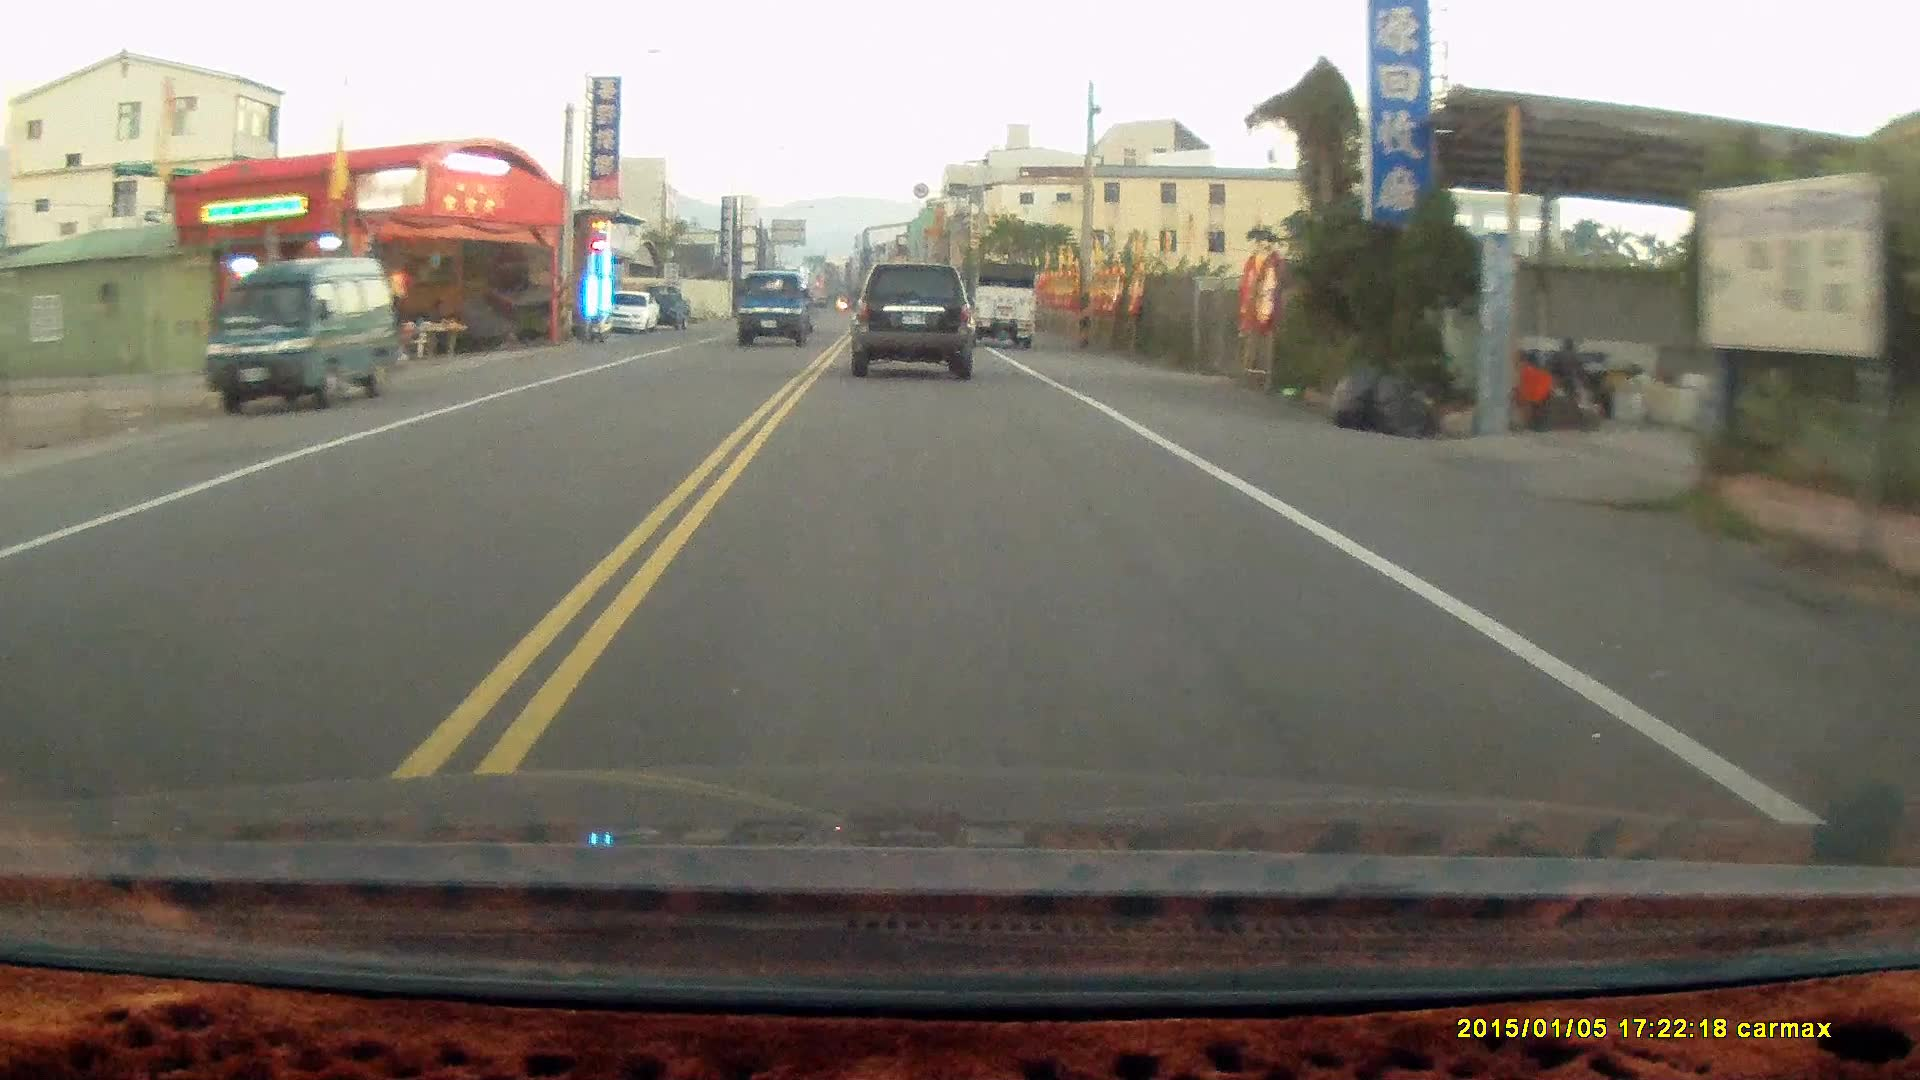vehicle: (208, 256, 401, 419), (853, 266, 976, 380), (945, 258, 1040, 349), (737, 277, 818, 357), (600, 291, 662, 338)
